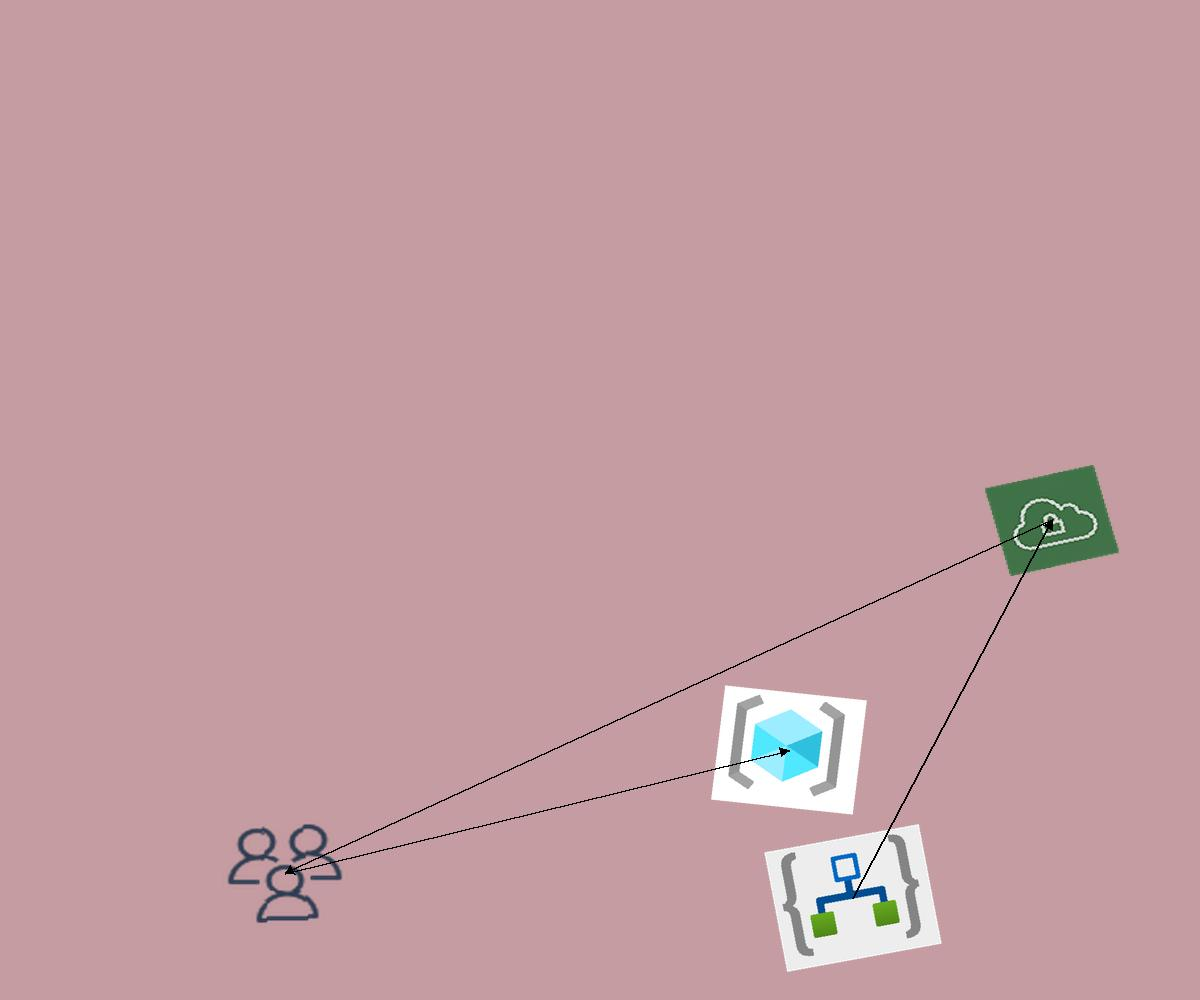AWS-Private_vpc: (984, 464, 1120, 577)
AWS-Res_Users: (218, 818, 352, 929)
Azure_integration-204-Logic-Apps: (764, 824, 942, 972)
Azure_resource_group: (711, 685, 867, 815)
